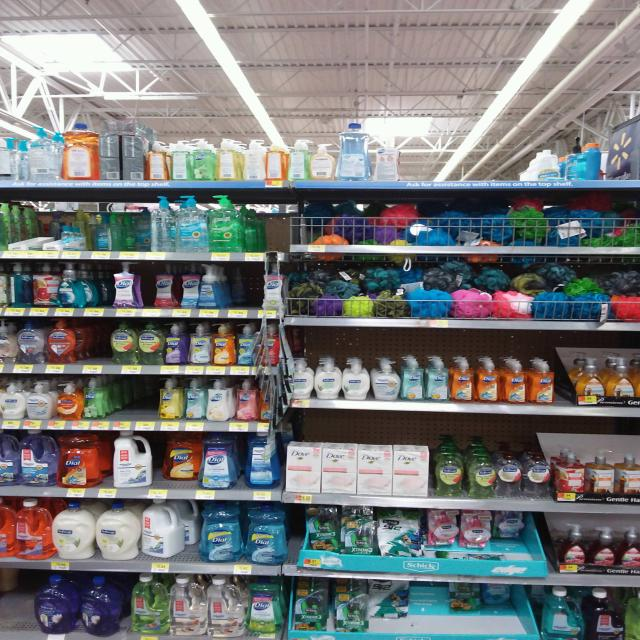empty: (388, 136, 533, 178), (247, 201, 299, 251), (1, 575, 45, 634), (408, 581, 453, 638), (103, 383, 166, 418), (223, 267, 268, 315)
